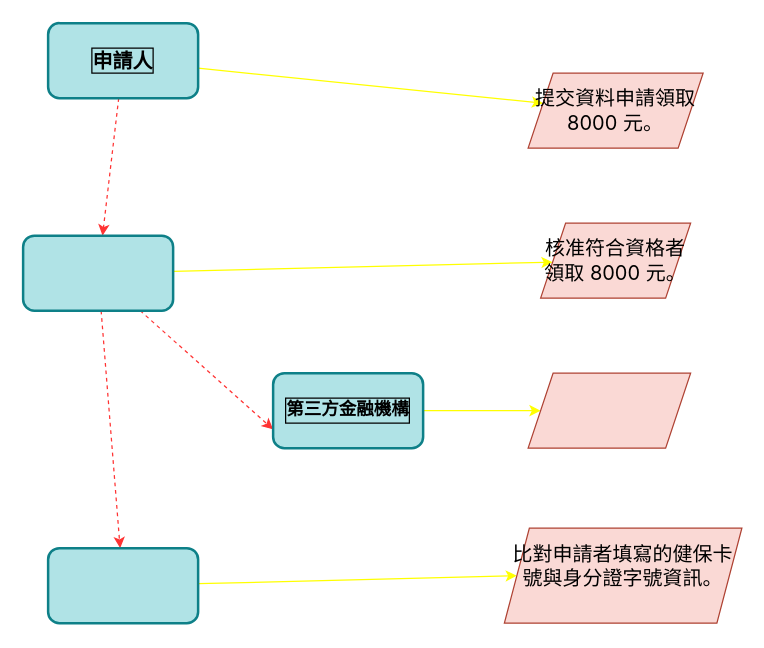
This 764x648 diagram has some shape labels left out. The centre of each missing label's shape, as x and y in pixels:
政府單位: [97,272]
確保金融帳戶與申請者資訊一致。: [609,410]
第三方健保局: [122,585]
